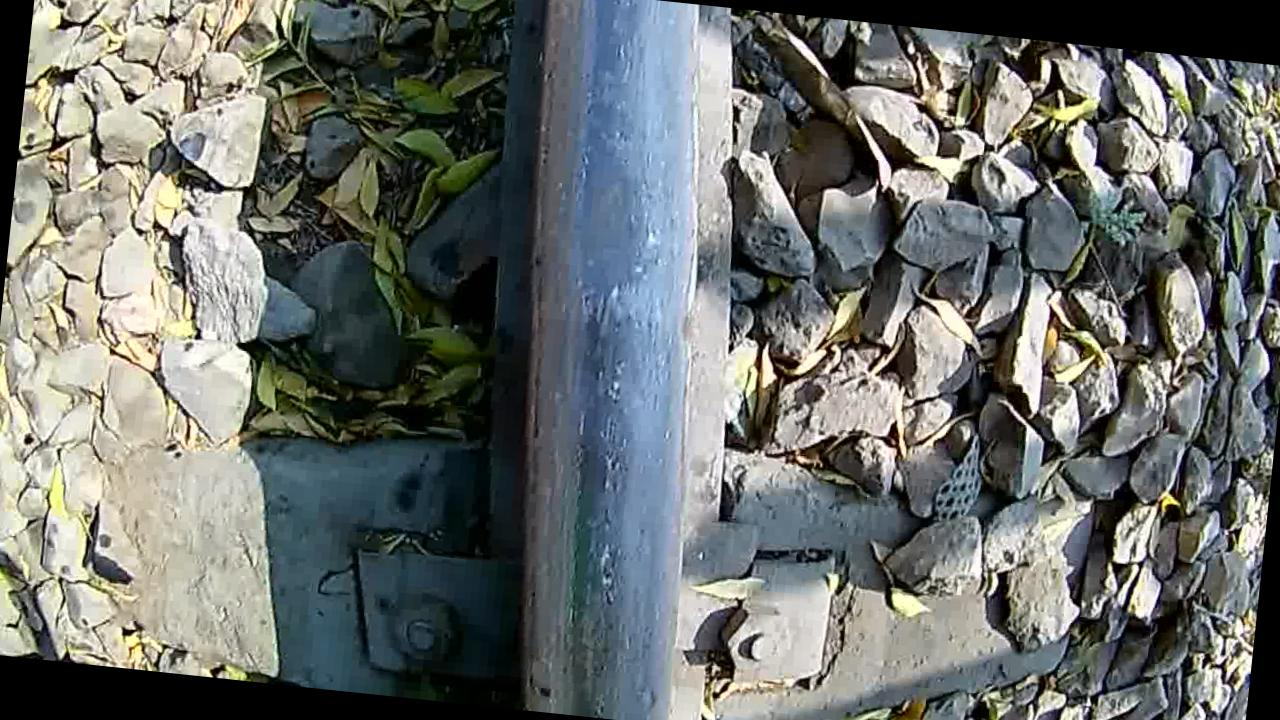bolt_missing: (480, 2, 724, 720)
